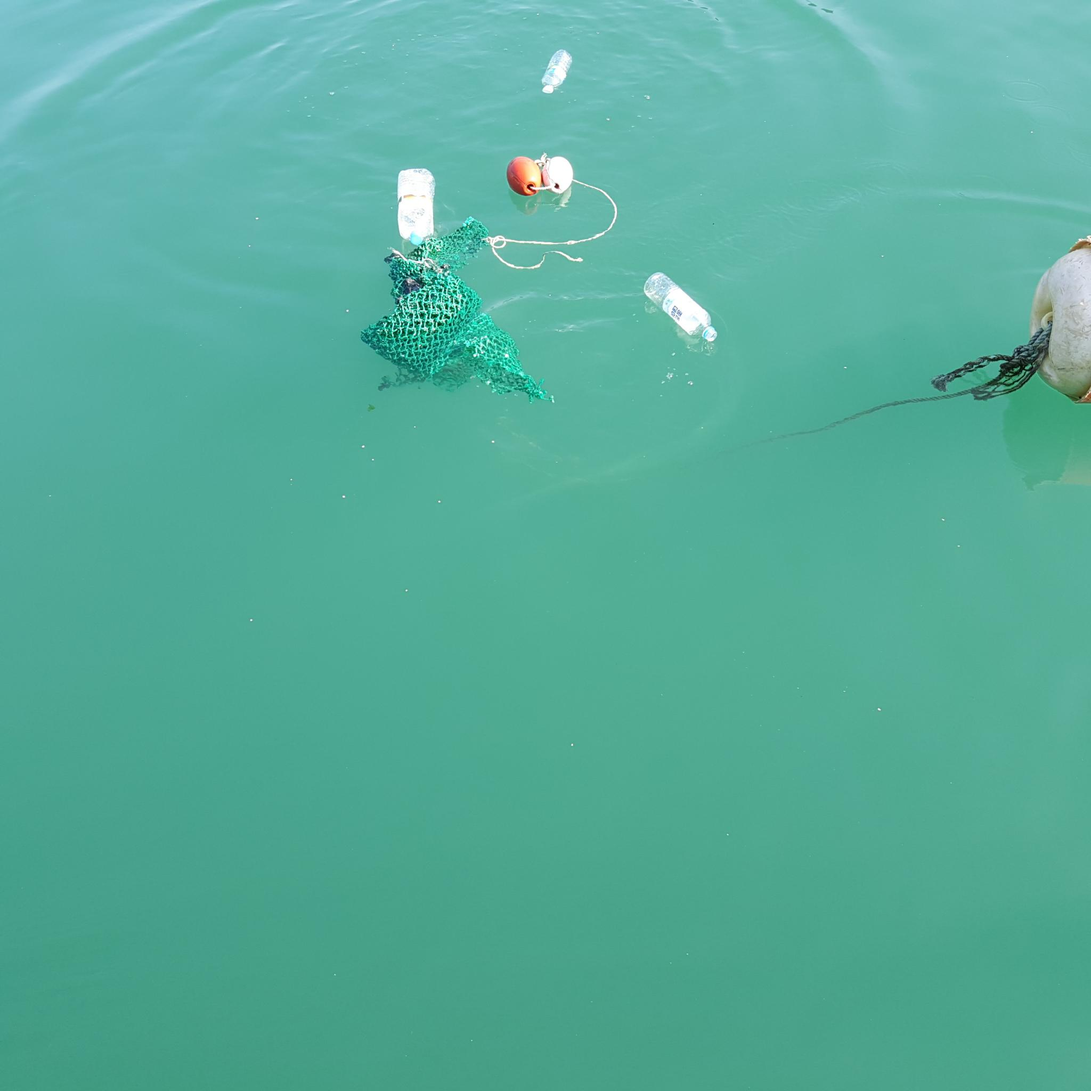sampah_terapung: (729, 322, 1053, 453), (361, 216, 556, 404), (481, 180, 617, 270), (1030, 235, 1091, 404), (644, 272, 719, 342), (398, 169, 437, 246), (541, 50, 573, 94), (507, 157, 542, 197), (542, 157, 574, 194)
